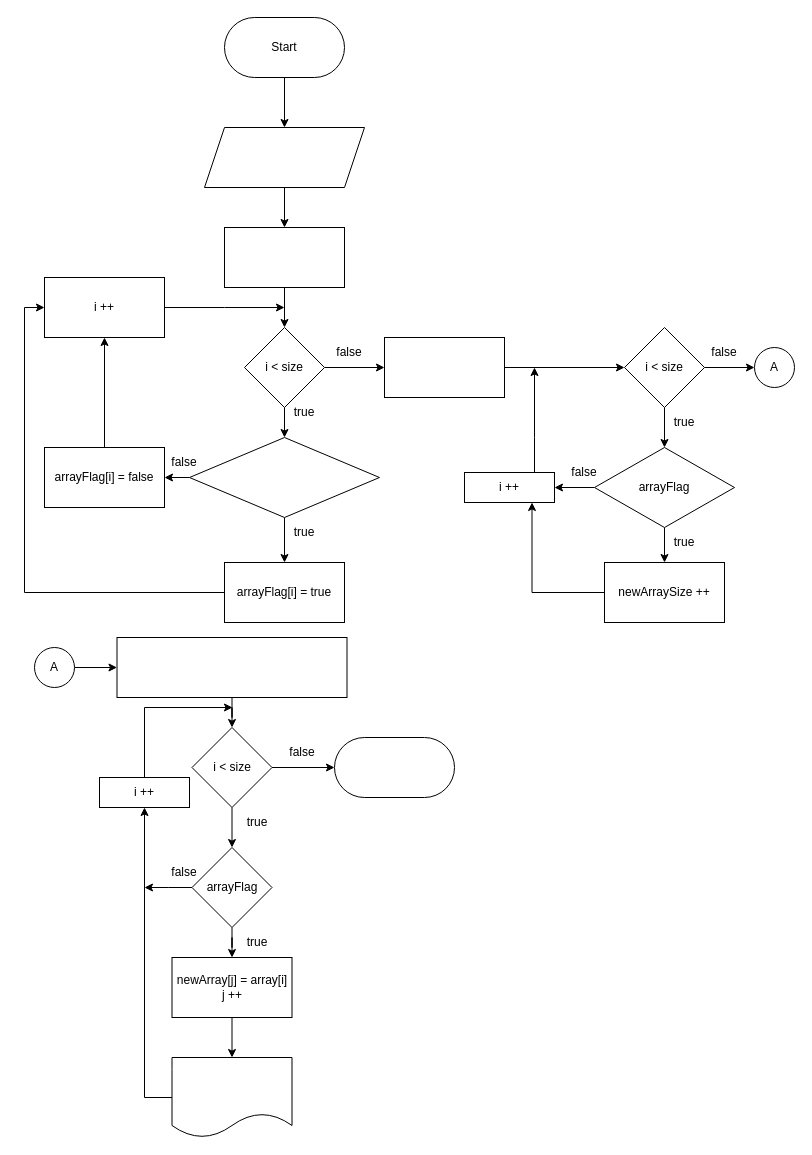
Some shapes in this 812 by 1155 pixel diagram are drawn without their labels. Each missing label, with the centre of its shape:
"array[i]" goes at pixel 231 1097.
"array[i].Length <= 3" goes at pixel 284 477.
"bool[] arrayFlag[size] i = 0" goes at pixel 284 257.
"End" goes at pixel 394 767.
"newArraySize = 0 i = 0" goes at pixel 444 367.
"string[] array[size]" goes at pixel 284 157.
"string[] newArray[newArraySize] i = 0 j = 0" goes at pixel 231 667.
